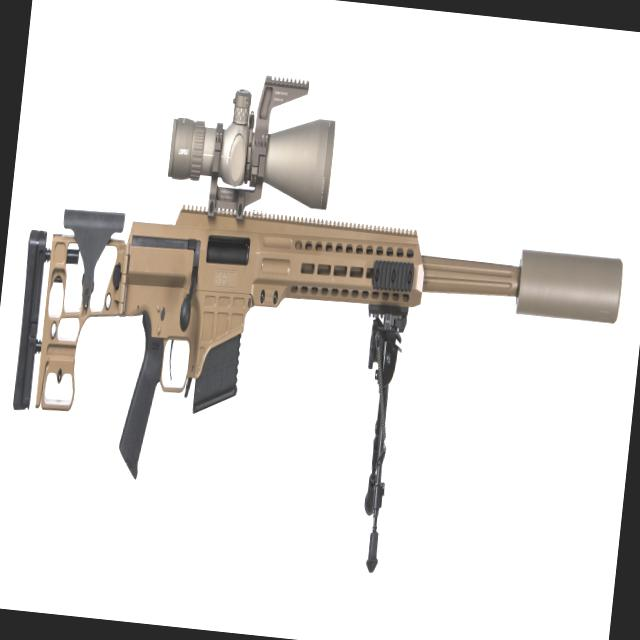long weapon: (2, 64, 638, 538)
